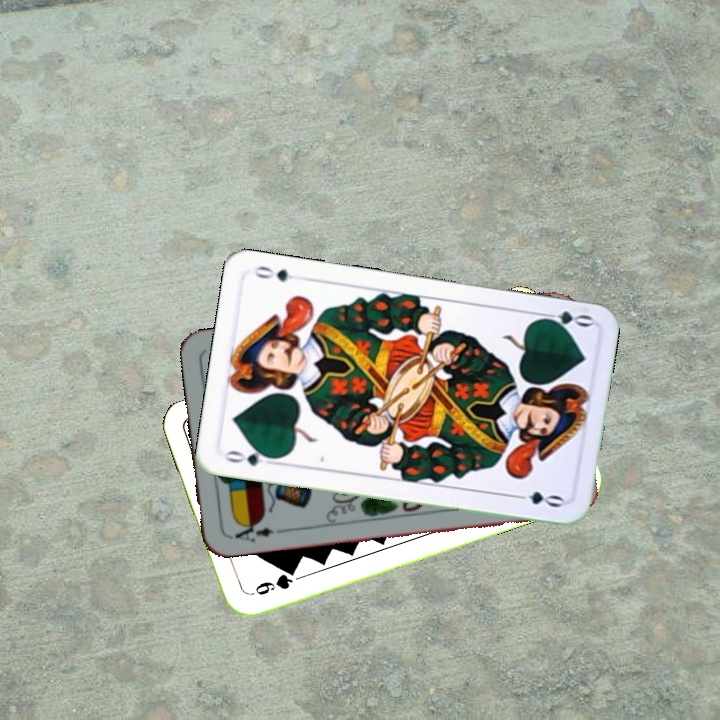EA: (226, 517, 277, 545)
G9: (245, 566, 299, 599)
GO: (534, 307, 594, 333), (221, 445, 280, 469)
